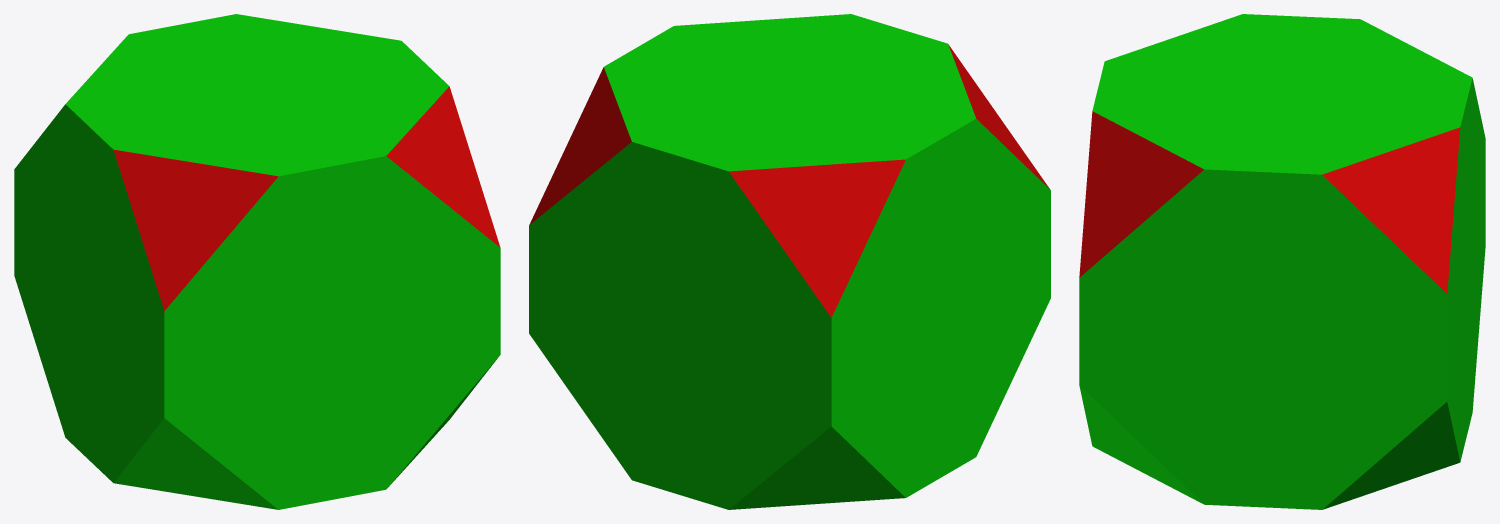
The model's file is anim_cube_000025.obj.
The picture shows the model from 3 angles, left to right: view 1: azimuth 30°, elevation 25°; view 2: azimuth 150°, elevation 25°; view 3: azimuth 270°, elevation 25°; orthographic projection.
Visible parts, largest first — view 1: Cube_Cube.002_Material.002, Cube_Cube.002_Material.001; view 2: Cube_Cube.002_Material.002, Cube_Cube.002_Material.001; view 3: Cube_Cube.002_Material.002, Cube_Cube.002_Material.001.
Part boxes in pixels (x1,y1,x2,y2): Cube_Cube.002_Material.002: [14, 14, 500, 509]; Cube_Cube.002_Material.001: [113, 86, 500, 310]; Cube_Cube.002_Material.002: [529, 14, 1050, 509]; Cube_Cube.002_Material.001: [529, 44, 1050, 317]; Cube_Cube.002_Material.002: [1079, 14, 1485, 509]; Cube_Cube.002_Material.001: [1079, 111, 1460, 293].
Bounding box in the file's own units: 3.4 × 3.09 × 3.4.
